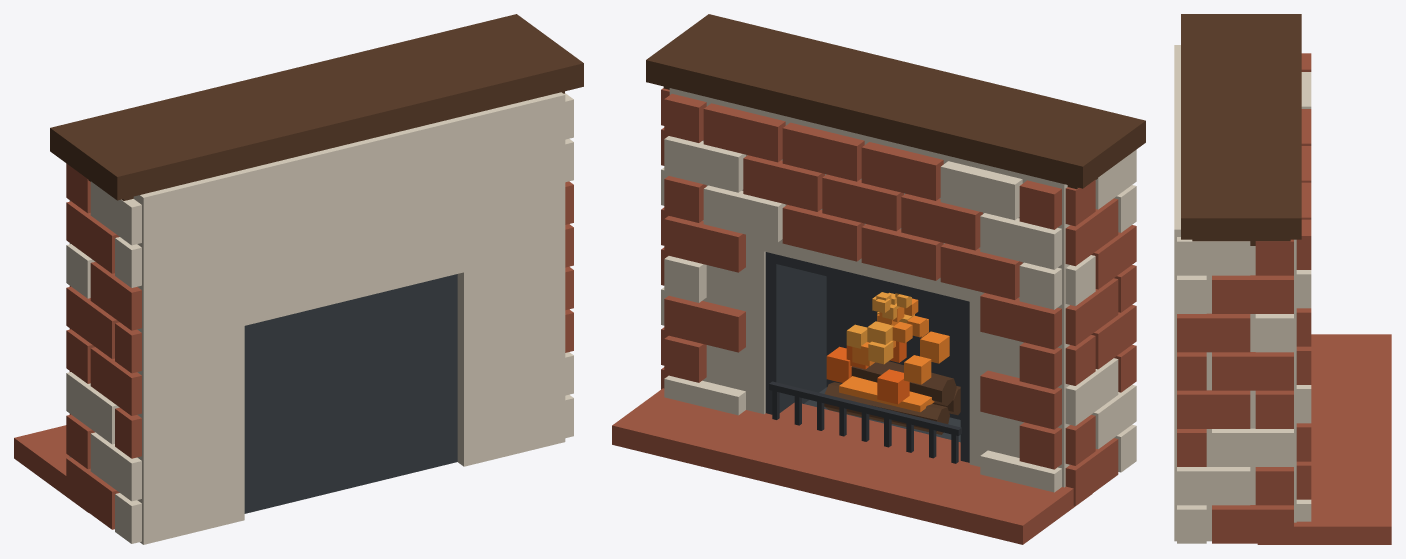
The model's file is SM_LPI_Fire_Surround_01.fbx.
3 views of the same model, side by side, from view 1: azimuth 30°, elevation 25°; view 2: azimuth 150°, elevation 25°; view 3: azimuth 270°, elevation 25° (orthographic). The views are drawn at different scales.
Visible parts, largest first — view 1: SM_LPI_Fire_Surround_01; view 2: SM_LPI_Fire_Surround_01; view 3: SM_LPI_Fire_Surround_01.
Part boxes in pixels (x1,y1,x2,y2): SM_LPI_Fire_Surround_01: [14, 14, 583, 544]; SM_LPI_Fire_Surround_01: [612, 14, 1145, 544]; SM_LPI_Fire_Surround_01: [1174, 14, 1391, 544].
Size of the model in its own units: 1.66 by 1.26 by 0.7456.
